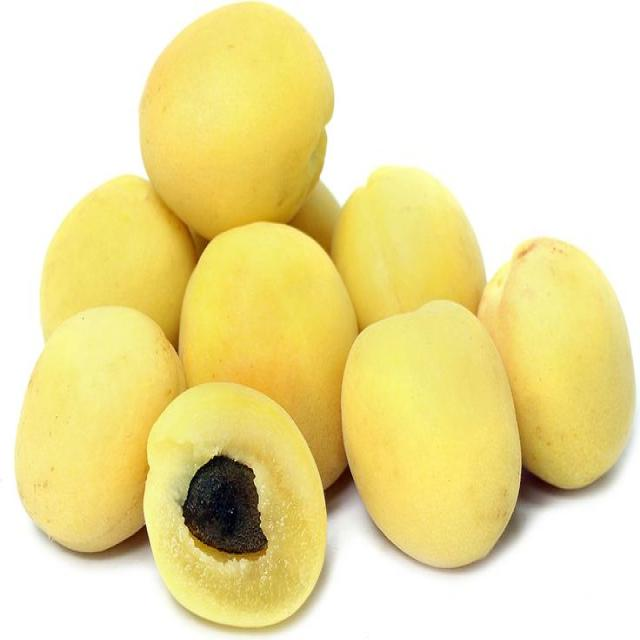kayisi: (340, 300, 523, 572), (177, 223, 361, 489), (137, 1, 337, 244), (143, 387, 326, 631), (13, 305, 190, 556), (476, 237, 637, 492), (38, 175, 195, 349), (331, 164, 488, 331)
kayisicekirdegi: (182, 457, 264, 553)
